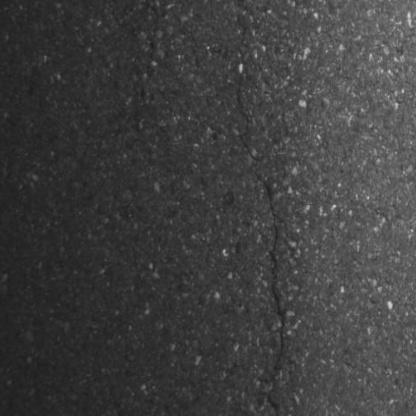Cracks: (234, 72, 291, 416)
